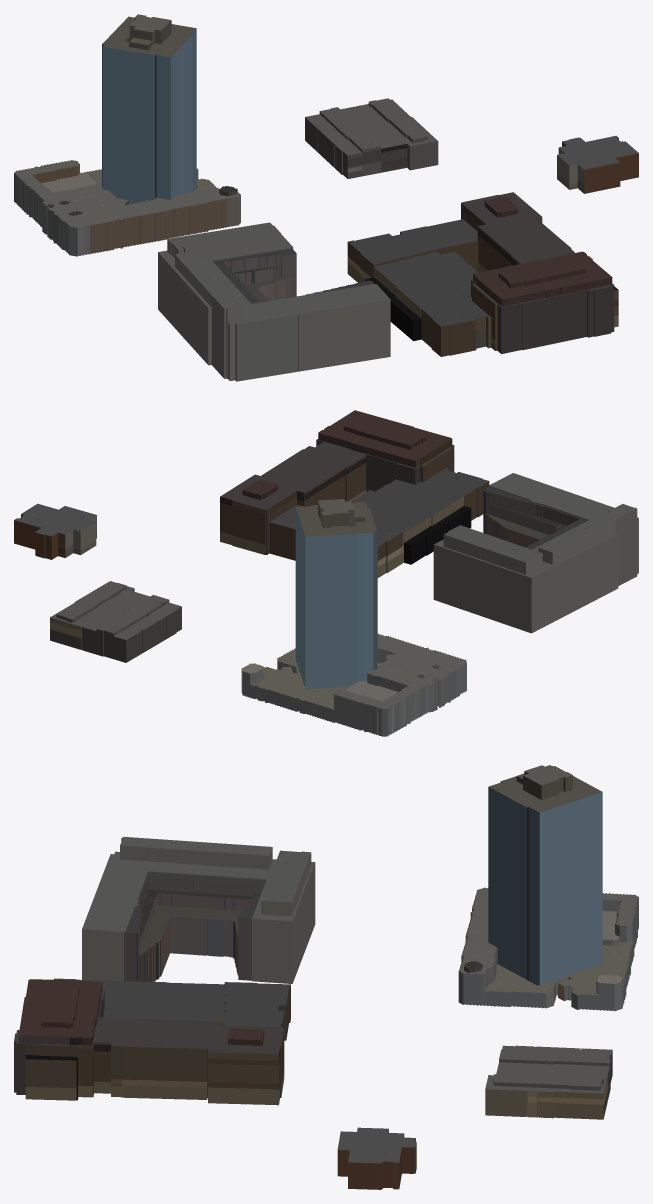
The model's file is t_-1_1.far.glb.
The picture shows the model from 3 angles, top to bottom: view 1: azimuth 30°, elevation 25°; view 2: azimuth 150°, elevation 25°; view 3: azimuth 270°, elevation 25°; orthographic projection. The views are drawn at different scales.
Visible parts, largest first — view 1: opaque; view 2: opaque; view 3: opaque.
Boxes of the visible parts, x1,y1,x2,y2 form: opaque: [14, 14, 638, 381]; opaque: [14, 410, 638, 736]; opaque: [14, 765, 638, 1189].
Bounding box in the file's own units: 262 × 89 × 250.
Materials: 1 (1 with a texture image).
